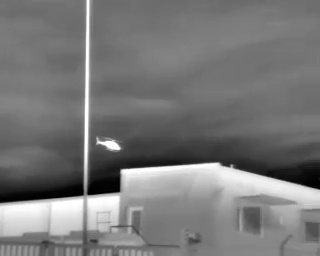HELICOPTER: (93, 132, 126, 156)
